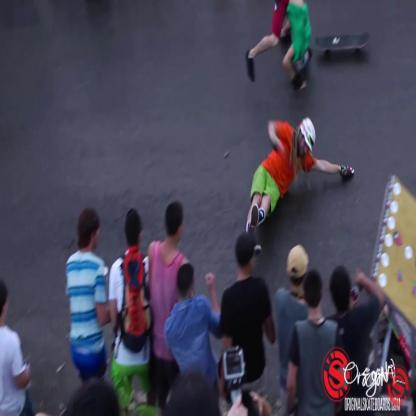Fall_Down: (244, 118, 356, 260)
